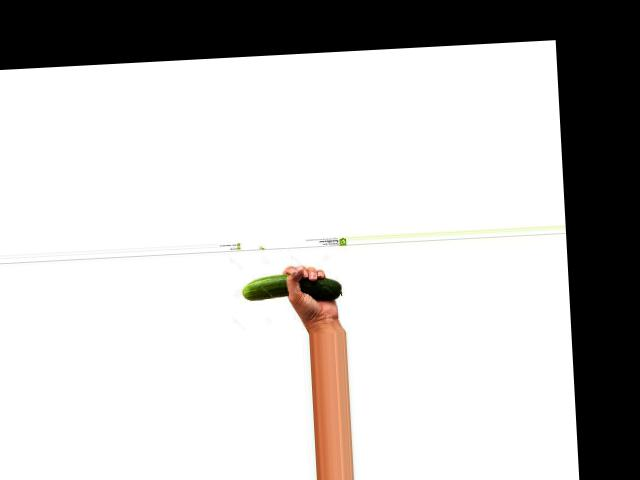cucumber: (241, 270, 341, 303)
